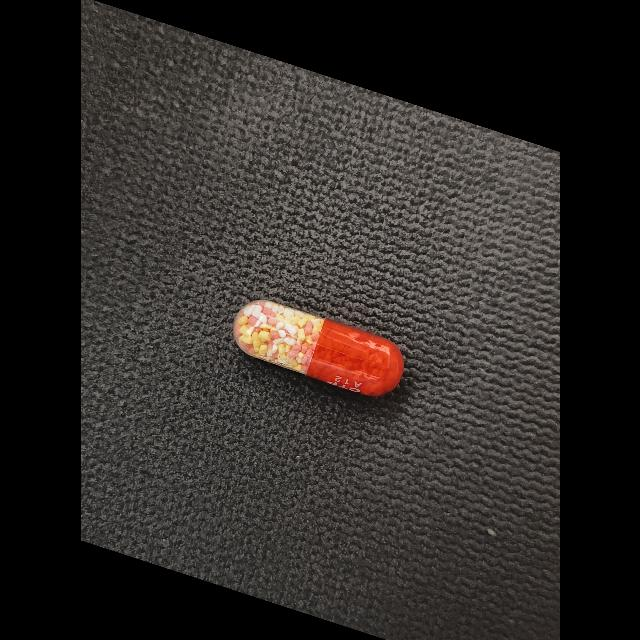Intact Capsule: (232, 300, 404, 396)
